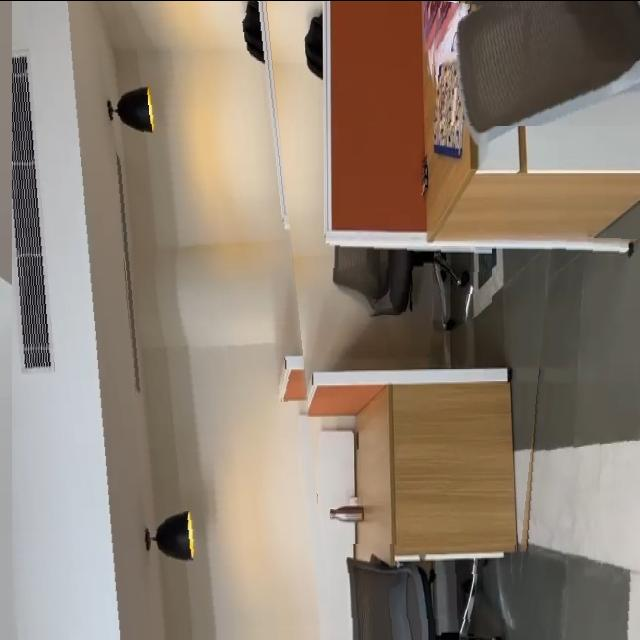floor: (511, 235, 640, 640)
furniture: (427, 0, 640, 125), (329, 543, 518, 640), (319, 242, 492, 323)
wall: (12, 0, 331, 640)
